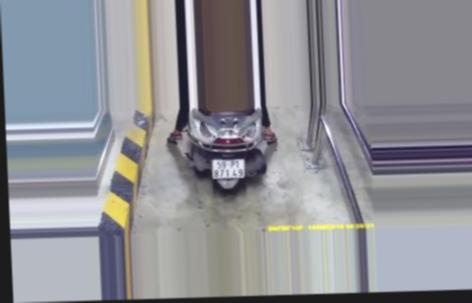License_Plate: (206, 155, 246, 183)
